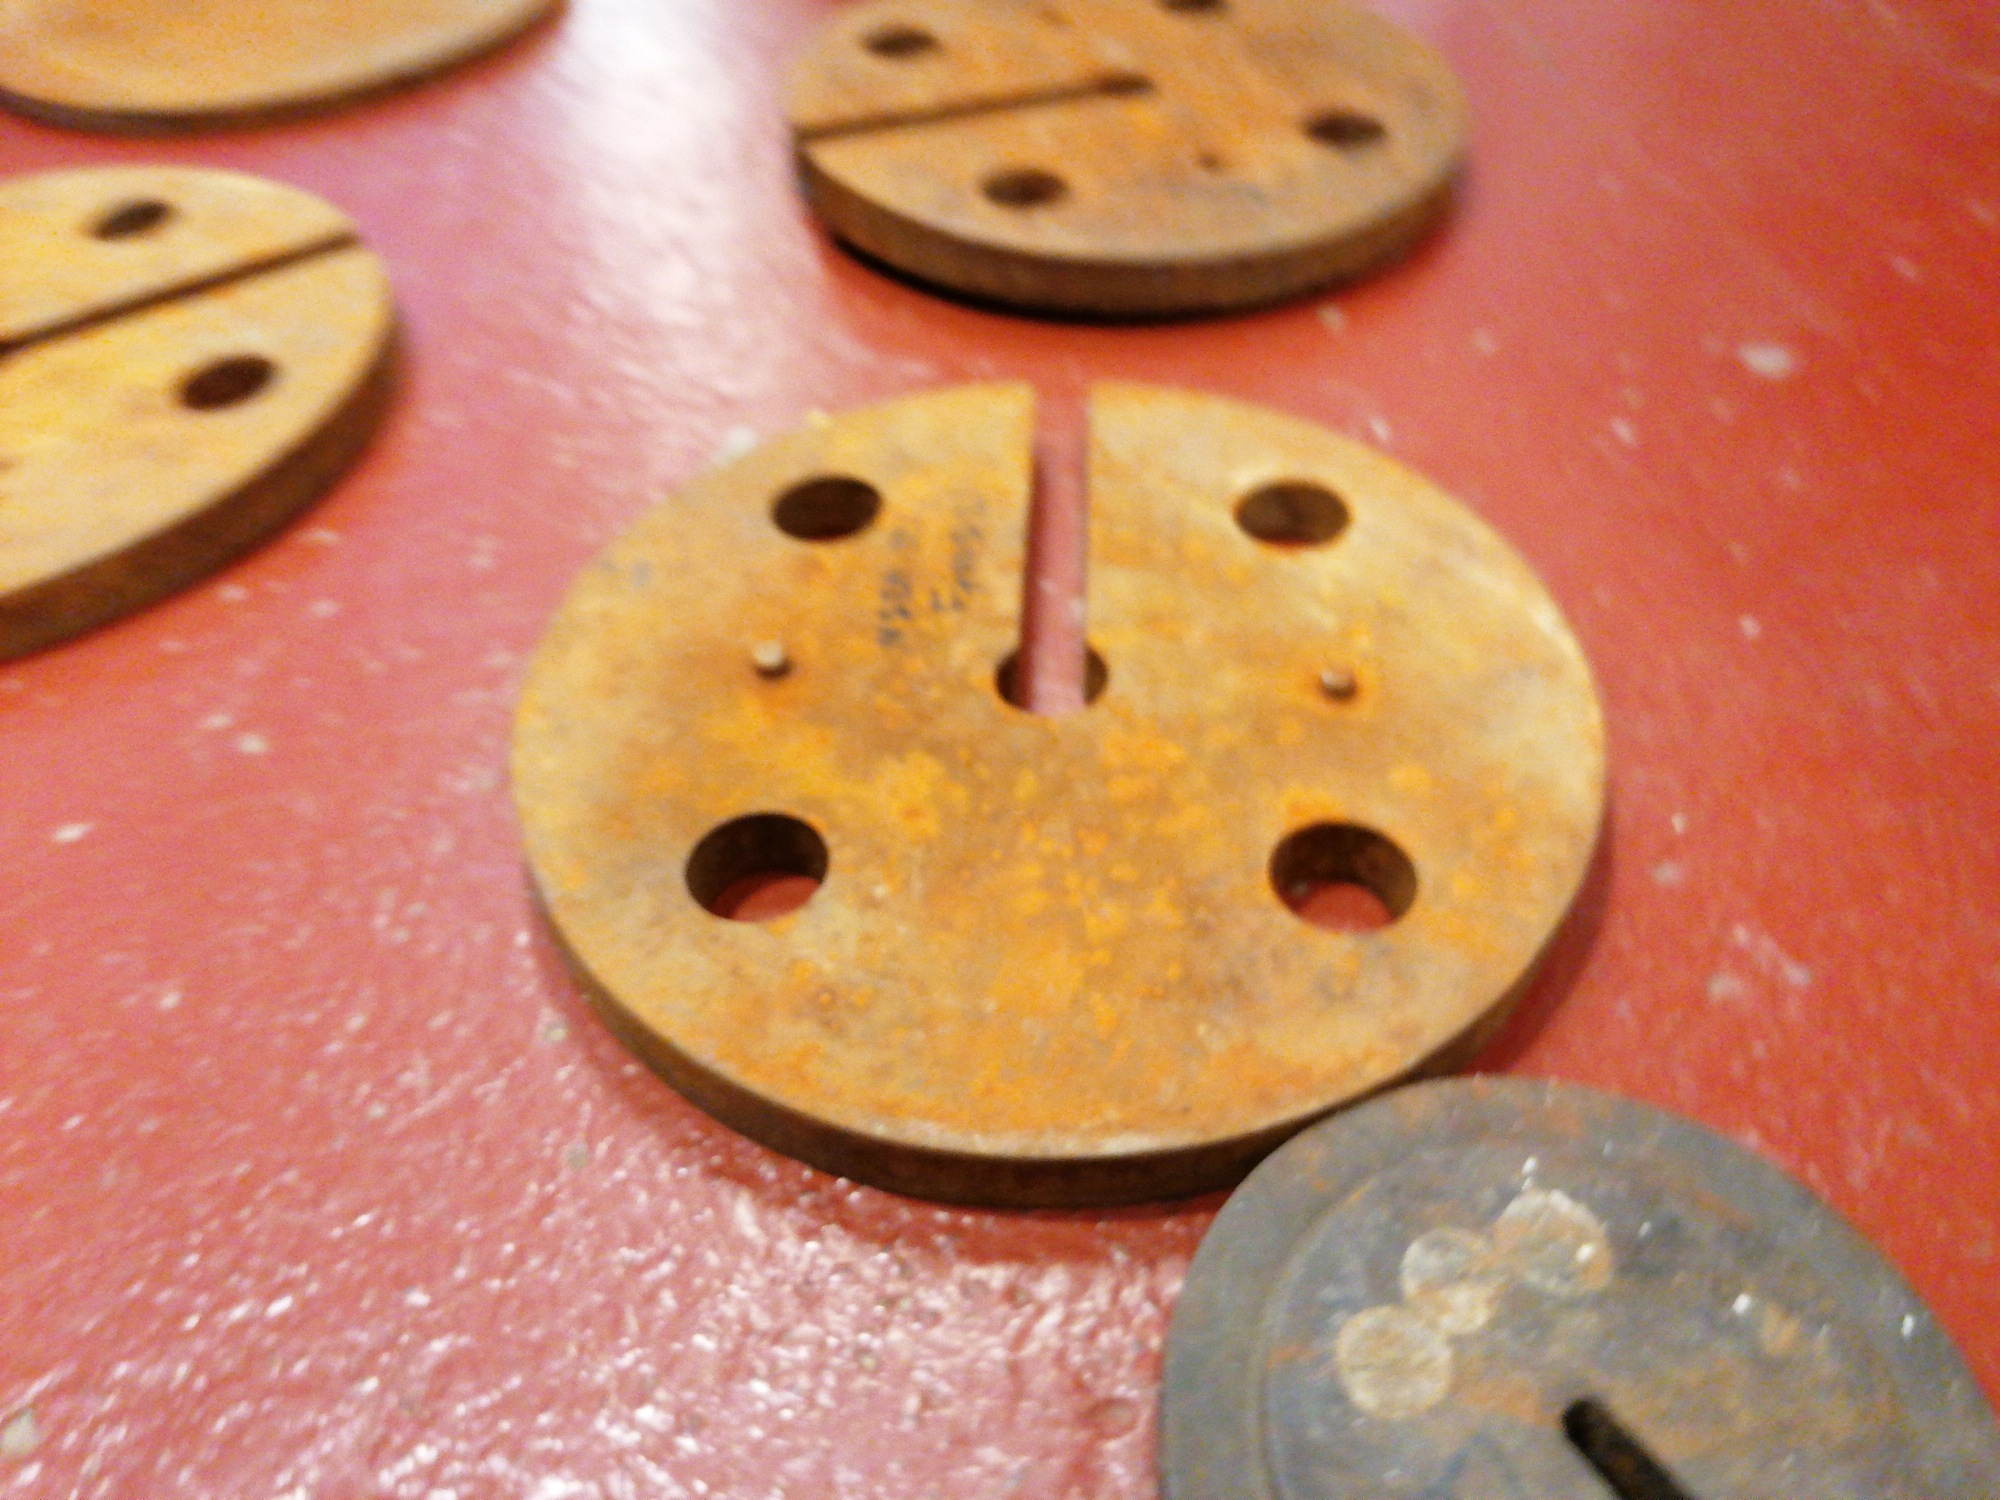flange: (506, 373, 1613, 1212), (1151, 1071, 2000, 1500), (780, 2, 1476, 314), (0, 159, 406, 678), (2, 5, 572, 142)
